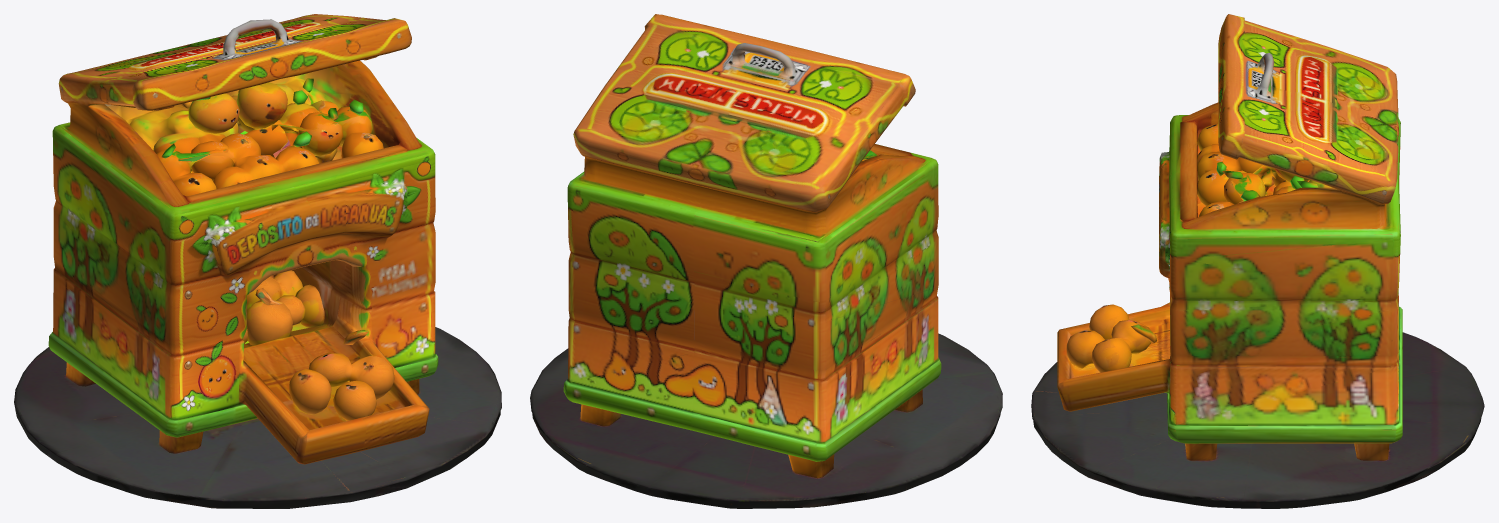
File: Meshy_AI_Make_this_image_easie_0516195547_texture.fbx
3 views of the same model, side by side, from view 1: azimuth 30°, elevation 25°; view 2: azimuth 150°, elevation 25°; view 3: azimuth 270°, elevation 25° (orthographic). The views are drawn at different scales.
Parts seen in each view (by area): view 1: Mesh_0; view 2: Mesh_0; view 3: Mesh_0.
Boxes of the visible parts, x1=… form: Mesh_0: x1=14, y1=14, x2=501, y2=508; Mesh_0: x1=530, y1=14, x2=1002, y2=508; Mesh_0: x1=1031, y1=14, x2=1484, y2=508.
Size of the model in its own units: 191 by 165 by 191.
1 material, 1 textured.
